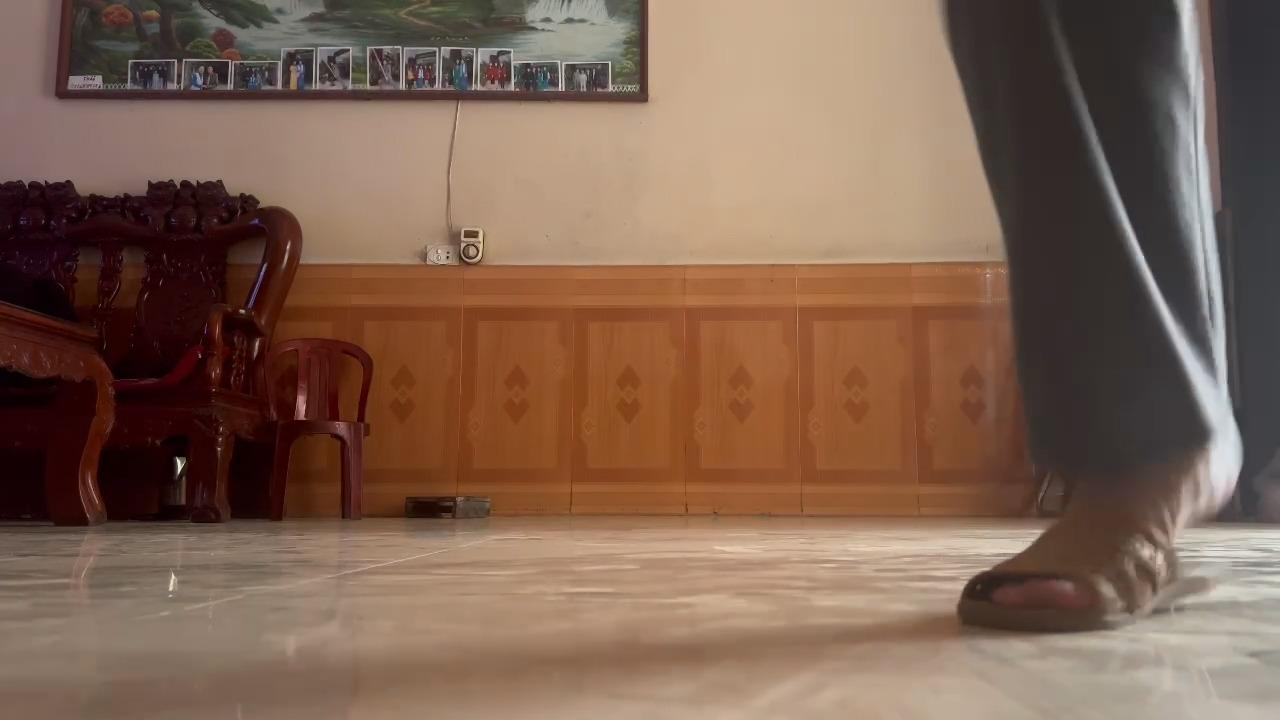no-boot: (949, 425, 1253, 647)
